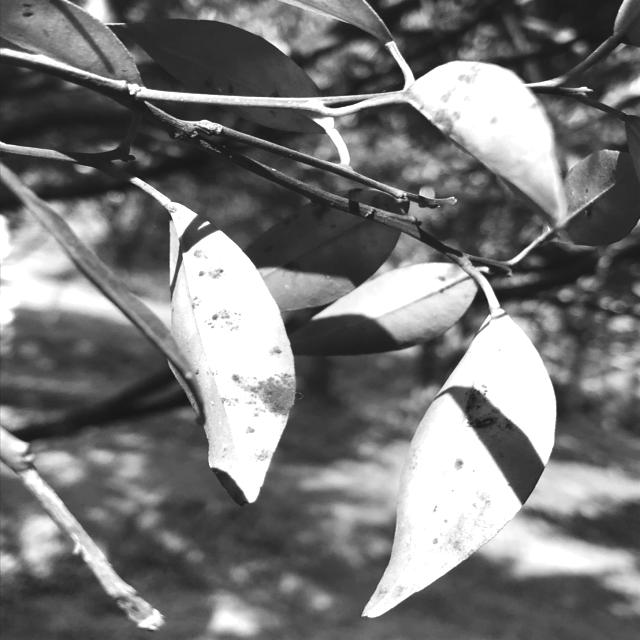canker: (172, 231, 298, 481), (412, 367, 549, 573), (170, 54, 319, 140), (416, 62, 529, 160), (5, 0, 91, 69)
